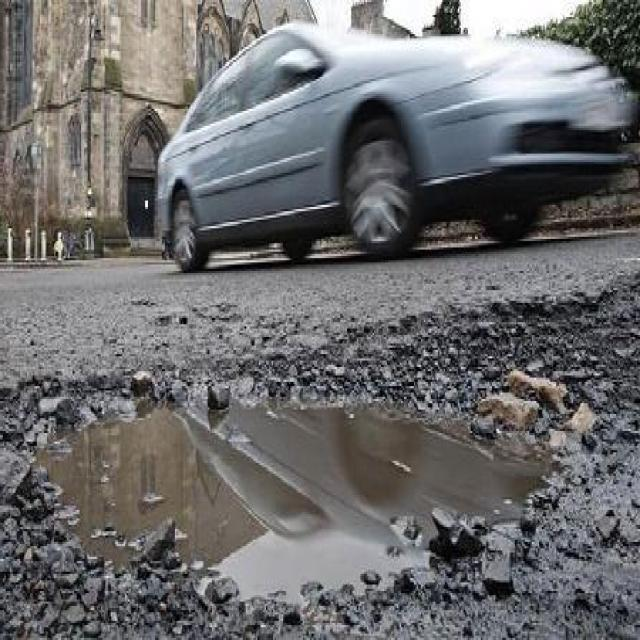pothole: (7, 334, 576, 612)
